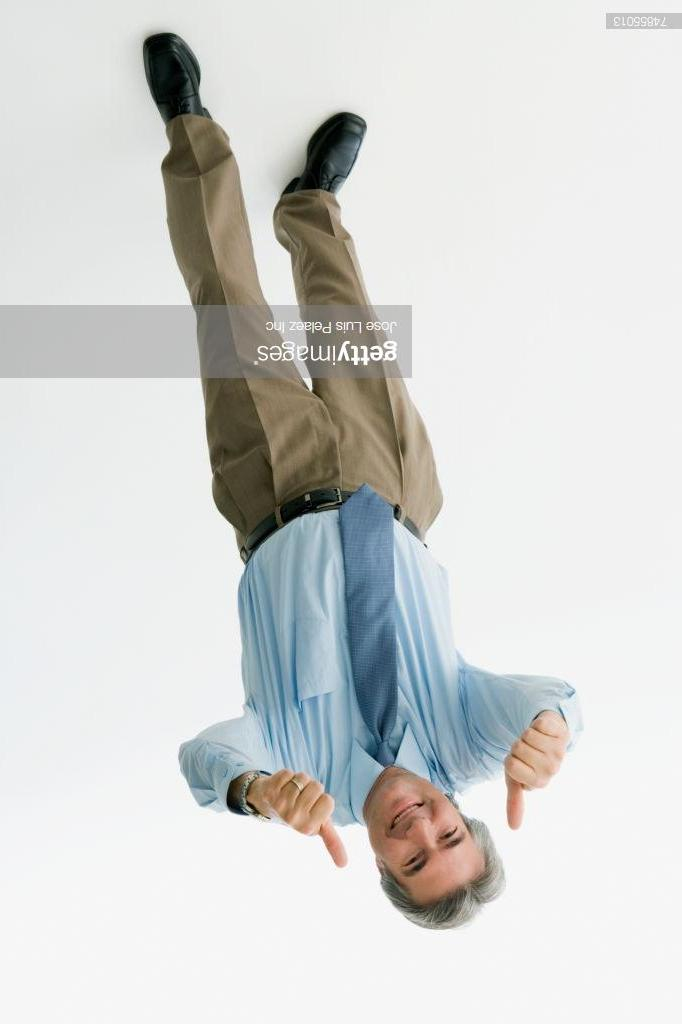thumbsdown: (263, 769, 348, 868), (504, 712, 570, 830)
